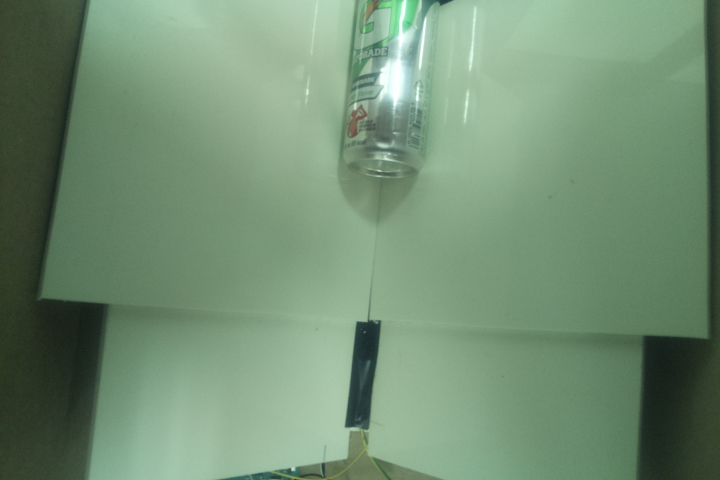can: (340, 1, 446, 182)
